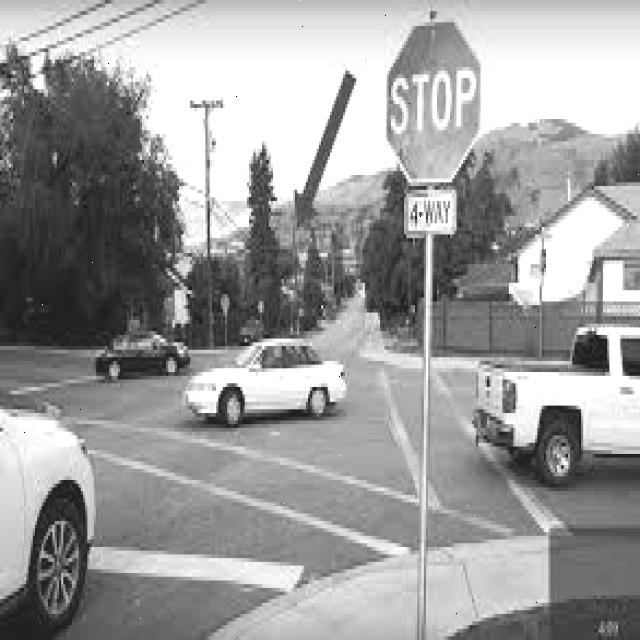stop sign: (388, 21, 482, 187)
